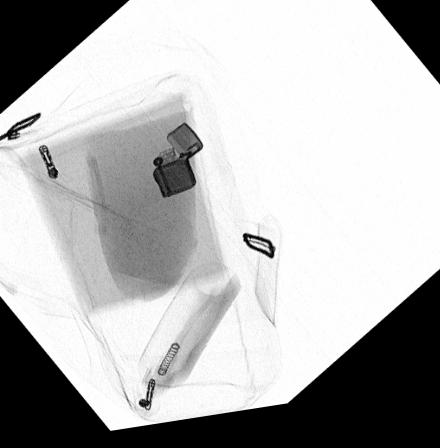Lighter: (151, 126, 204, 203)
